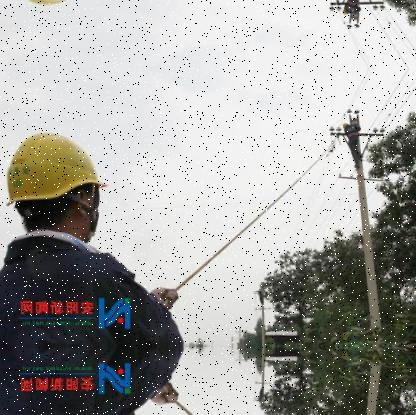helmet: (2, 114, 125, 246)
